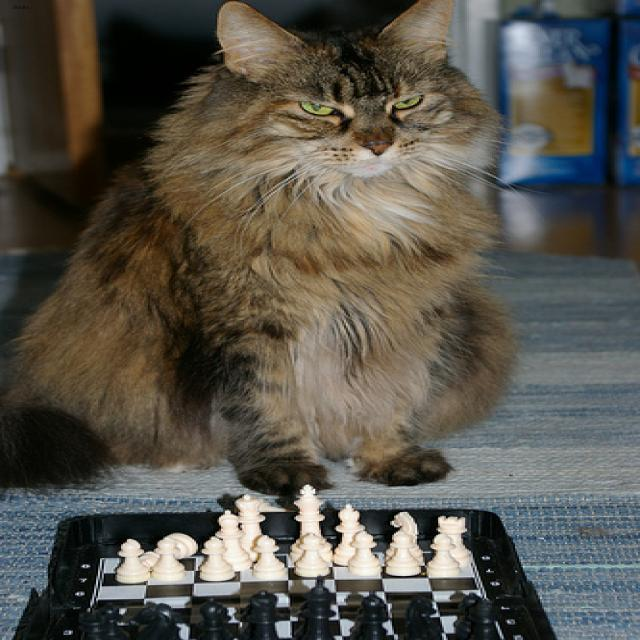cat: (213, 0, 449, 175)
